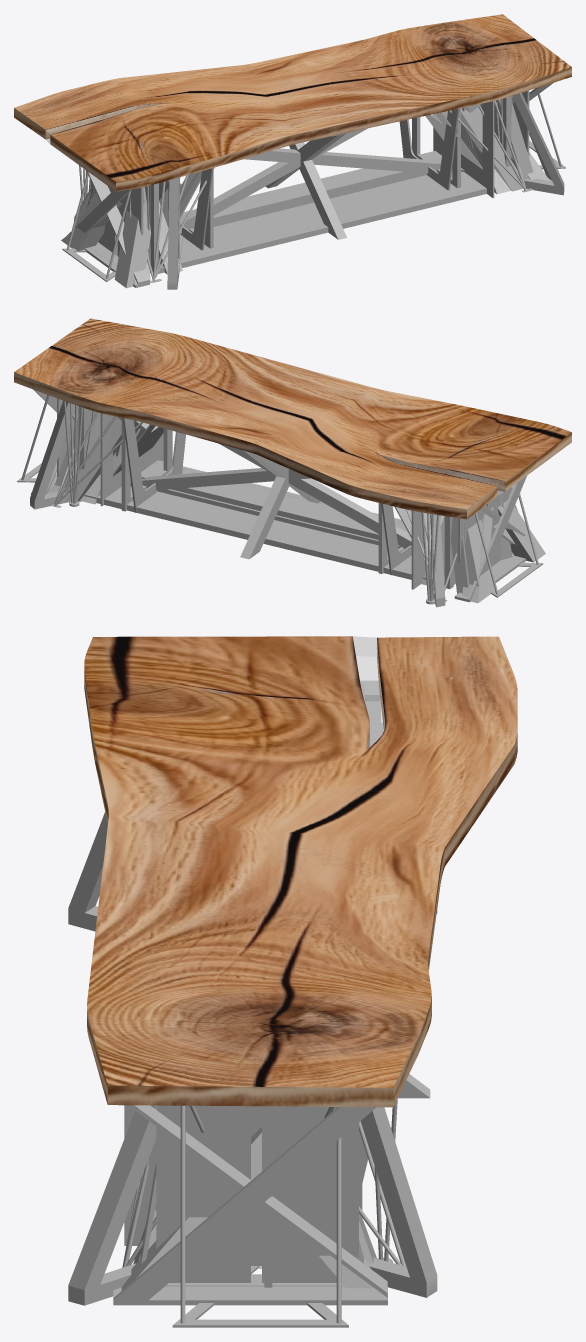
File: table.glb
3 renders of one model, top to bottom at view 1: azimuth 30°, elevation 25°; view 2: azimuth 150°, elevation 25°; view 3: azimuth 270°, elevation 25°, orthographic. The views are drawn at different scales.
Visible parts, largest first — view 1: parent_21, parent_01, parent_23, parent_24, parent_33, parent_31, parent_32, parent_28, parent_26, parent_37, parent_25, parent_29 (+5 smaller); view 2: parent_21, parent_01, parent_23, parent_24, parent_31, parent_33, parent_29, parent_32, parent_35, parent_28, parent_27, parent_25 (+6 smaller); view 3: parent_21, parent_37, parent_28, parent_32, parent_25, parent_36, parent_22, parent_26, parent_27, parent_31, parent_01, parent_29.
Part boxes in pixels (left/top/right/bottom): parent_21: left=14, top=14, right=571, bottom=191; parent_01: left=145, top=96, right=511, bottom=273; parent_23: left=180, top=128, right=452, bottom=239; parent_24: left=116, top=108, right=459, bottom=255; parent_33: left=70, top=104, right=523, bottom=288; parent_31: left=159, top=101, right=494, bottom=260; parent_32: left=74, top=93, right=564, bottom=289; parent_28: left=67, top=82, right=553, bottom=287; parent_26: left=147, top=100, right=532, bottom=282; parent_37: left=90, top=90, right=529, bottom=256; parent_25: left=62, top=94, right=565, bottom=281; parent_29: left=189, top=108, right=460, bottom=248; parent_21: left=14, top=318, right=571, bottom=519; parent_01: left=78, top=406, right=455, bottom=589; parent_23: left=130, top=443, right=411, bottom=559; parent_24: left=122, top=418, right=411, bottom=575; parent_31: left=100, top=413, right=444, bottom=589; parent_33: left=65, top=416, right=545, bottom=596; parent_29: left=121, top=420, right=404, bottom=573; parent_32: left=30, top=400, right=517, bottom=607; parent_35: left=63, top=401, right=439, bottom=604; parent_28: left=31, top=389, right=526, bottom=602; parent_27: left=55, top=411, right=520, bottom=593; parent_25: left=17, top=395, right=543, bottom=597; parent_21: left=84, top=636, right=517, bottom=1107; parent_37: left=156, top=683, right=364, bottom=1282; parent_28: left=113, top=680, right=387, bottom=1305; parent_32: left=68, top=812, right=437, bottom=1305; parent_25: left=172, top=1105, right=348, bottom=1327; parent_36: left=121, top=701, right=380, bottom=1290; parent_22: left=353, top=636, right=385, bottom=749; parent_26: left=122, top=1121, right=406, bottom=1267; parent_27: left=140, top=1163, right=363, bottom=1286; parent_31: left=124, top=722, right=383, bottom=1245; parent_01: left=148, top=1106, right=261, bottom=1265; parent_29: left=264, top=1106, right=272, bottom=1287.
Bounding box in the file's own units: 3.63 × 0.8587 × 1.5.
4 materials, 2 textured.
